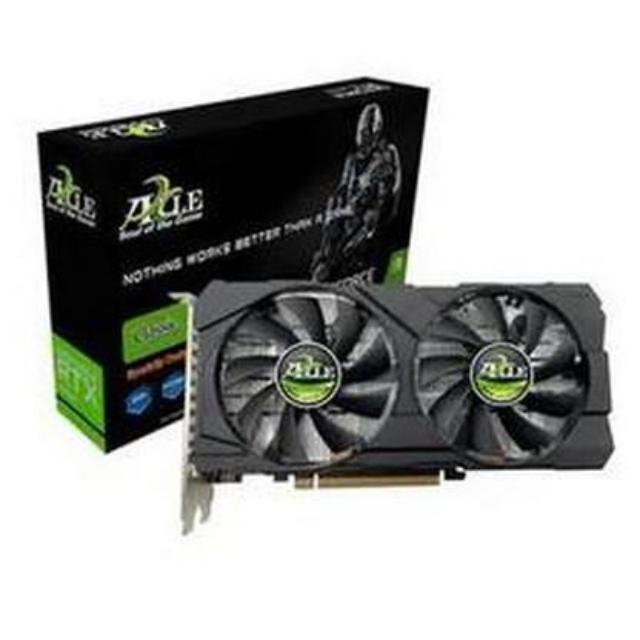GPU: (177, 270, 617, 499)
